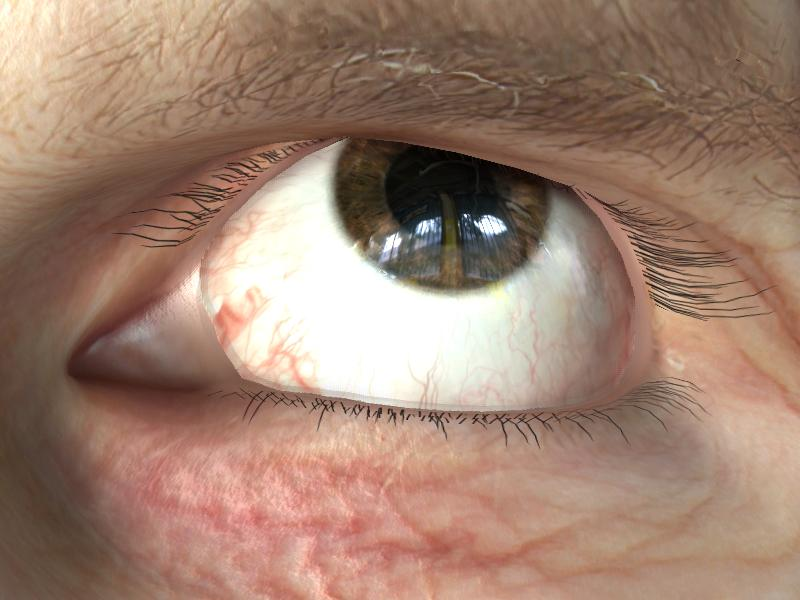eye: (334, 135, 551, 292)
